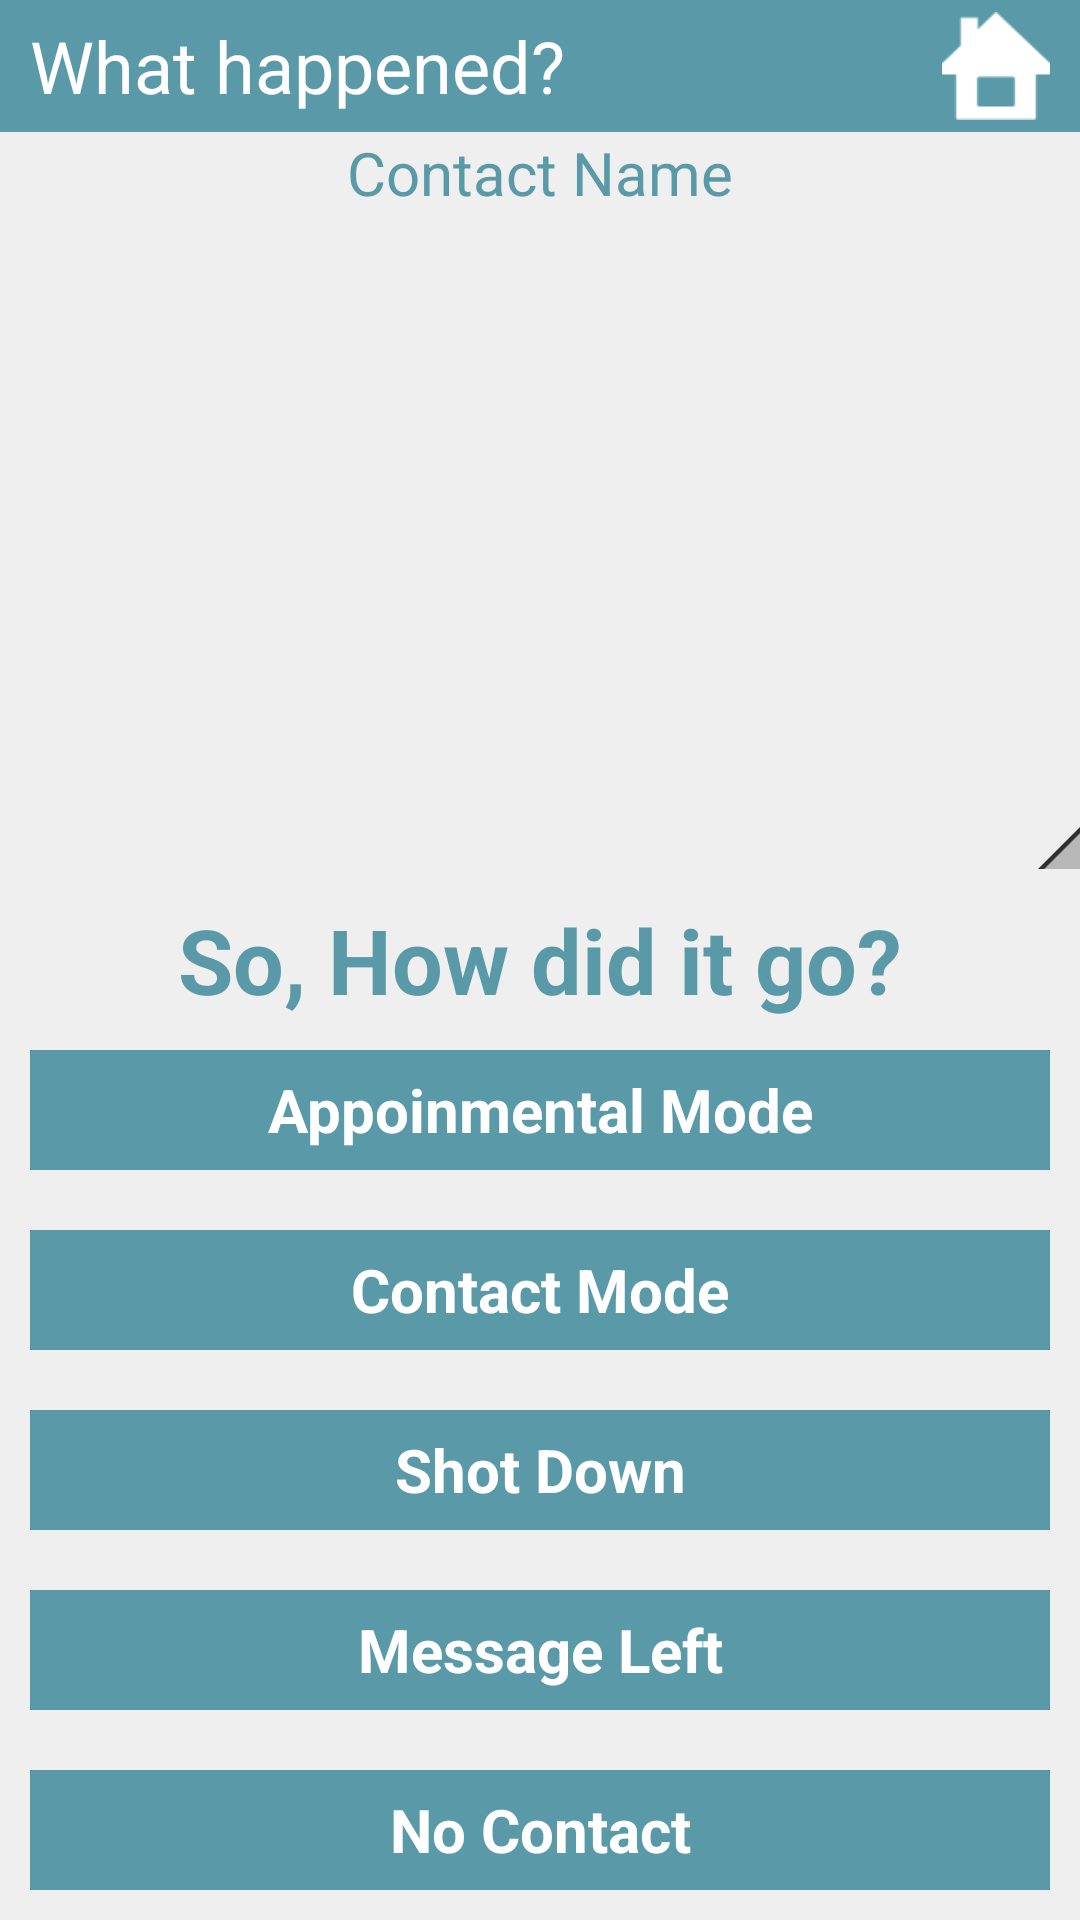

Icon click points for this 1080 × 1920 phone screenshot, format (x=x, y=y):
home: (x=996, y=66)
